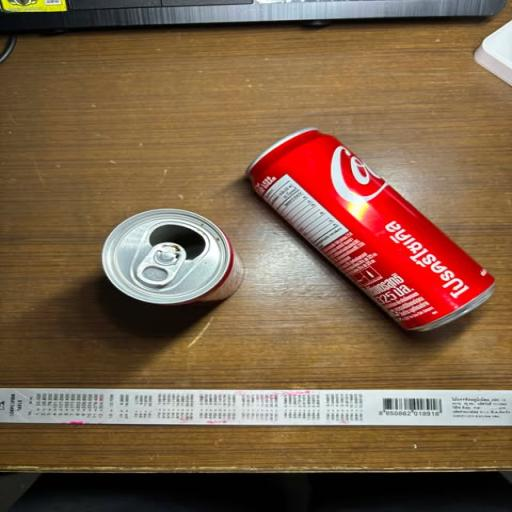canned: (234, 106, 512, 365)
